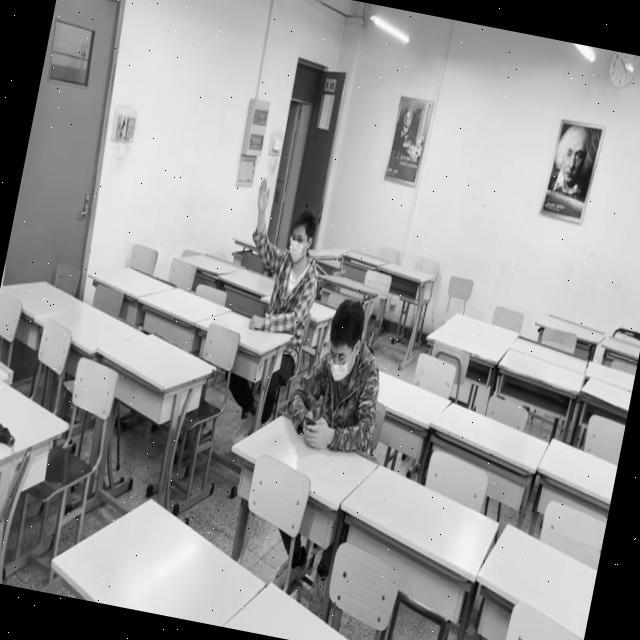phone: (286, 292, 396, 457)
study: (233, 176, 334, 335)
